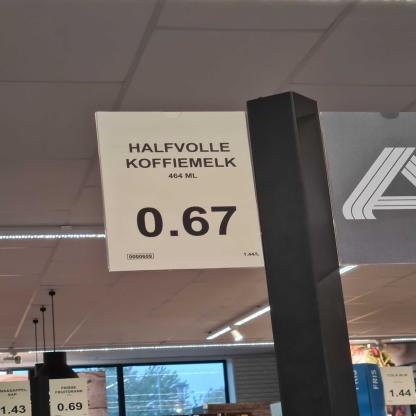prtg: (95, 110, 267, 274)
